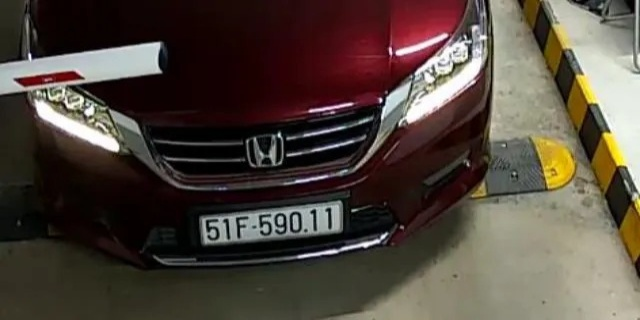bien_so: (201, 206, 339, 242)
